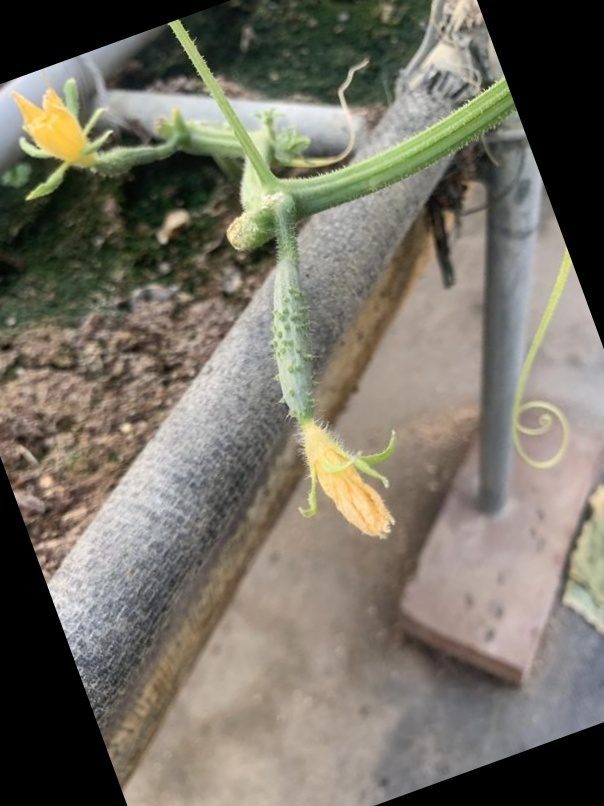bear: (245, 241, 400, 531), (14, 73, 185, 206)
